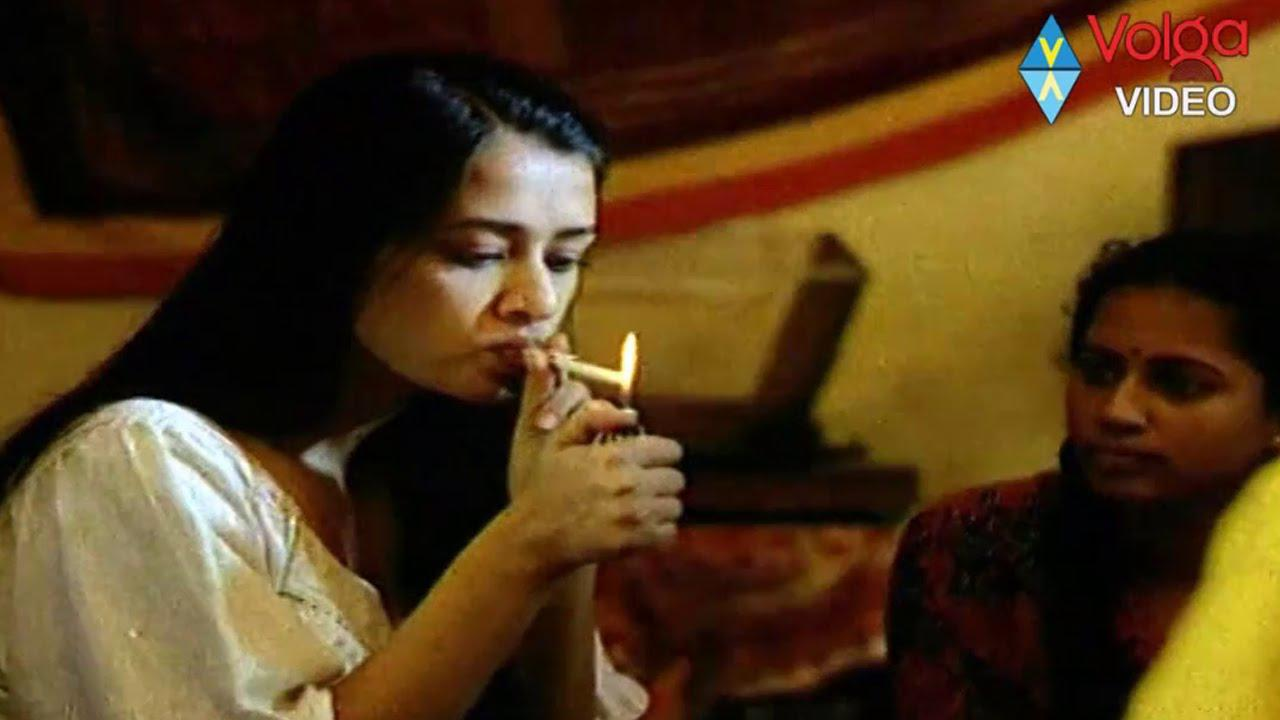smoking: (535, 340, 649, 416)
